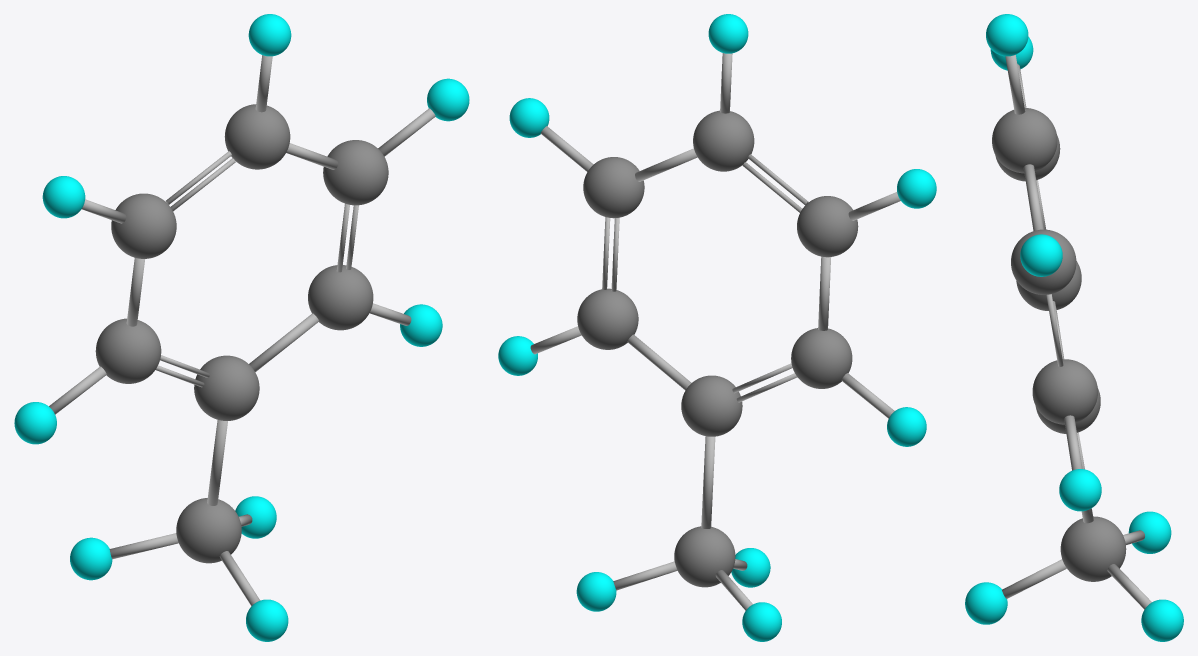
Rendered from toluene.glb.
3 renders of one model, left to right at view 1: azimuth 30°, elevation 25°; view 2: azimuth 150°, elevation 25°; view 3: azimuth 270°, elevation 25°, orthographic. The views are drawn at different scales.
Visible parts, largest first — view 1: CMAtom_0; view 2: CMAtom_0; view 3: CMAtom_0.
Boxes of the visible parts, bbox=[...] form: CMAtom_0: bbox=[14, 14, 469, 641]; CMAtom_0: bbox=[498, 14, 936, 641]; CMAtom_0: bbox=[965, 14, 1183, 641].
Bounding box in the file's own units: 0.4829 × 0.6364 × 0.2058.
